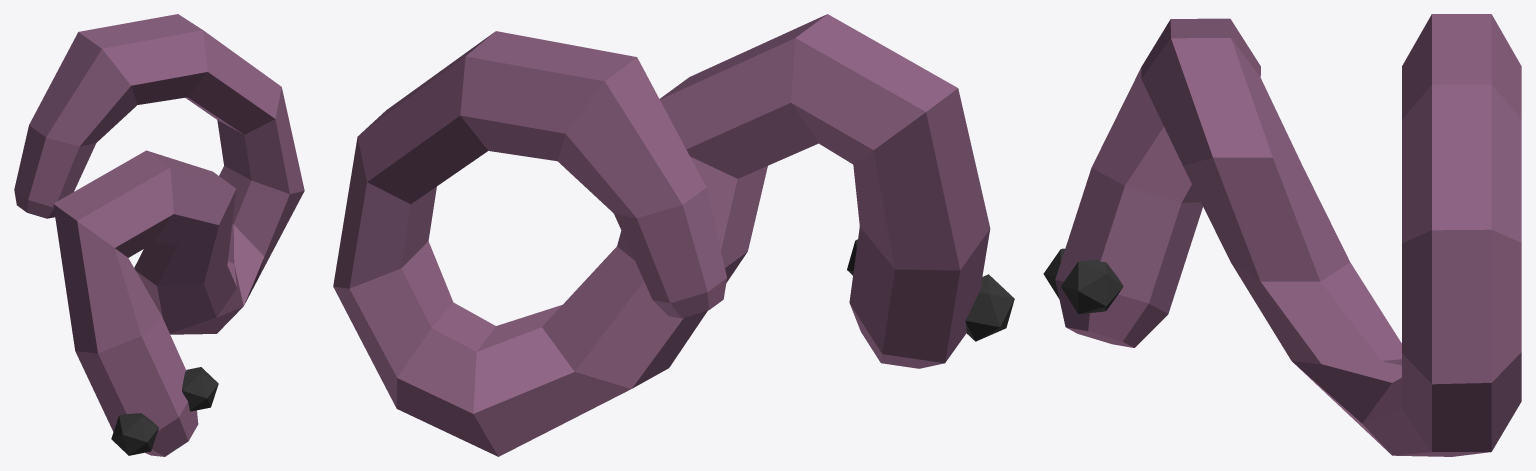
Rendered from Worm.glb.
The picture shows the model from 3 angles, left to right: view 1: azimuth 30°, elevation 25°; view 2: azimuth 150°, elevation 25°; view 3: azimuth 270°, elevation 25°; orthographic projection. The views are drawn at different scales.
Visible parts, largest first — view 1: Worm; view 2: Worm; view 3: Worm.
Part boxes in pixels (x1=…): Worm: x1=14, y1=14, x2=304, y2=456; Worm: x1=333, y1=14, x2=1014, y2=456; Worm: x1=1043, y1=14, x2=1521, y2=456.
Bounding box in the file's own units: 1.42 × 1.24 × 1.39.
